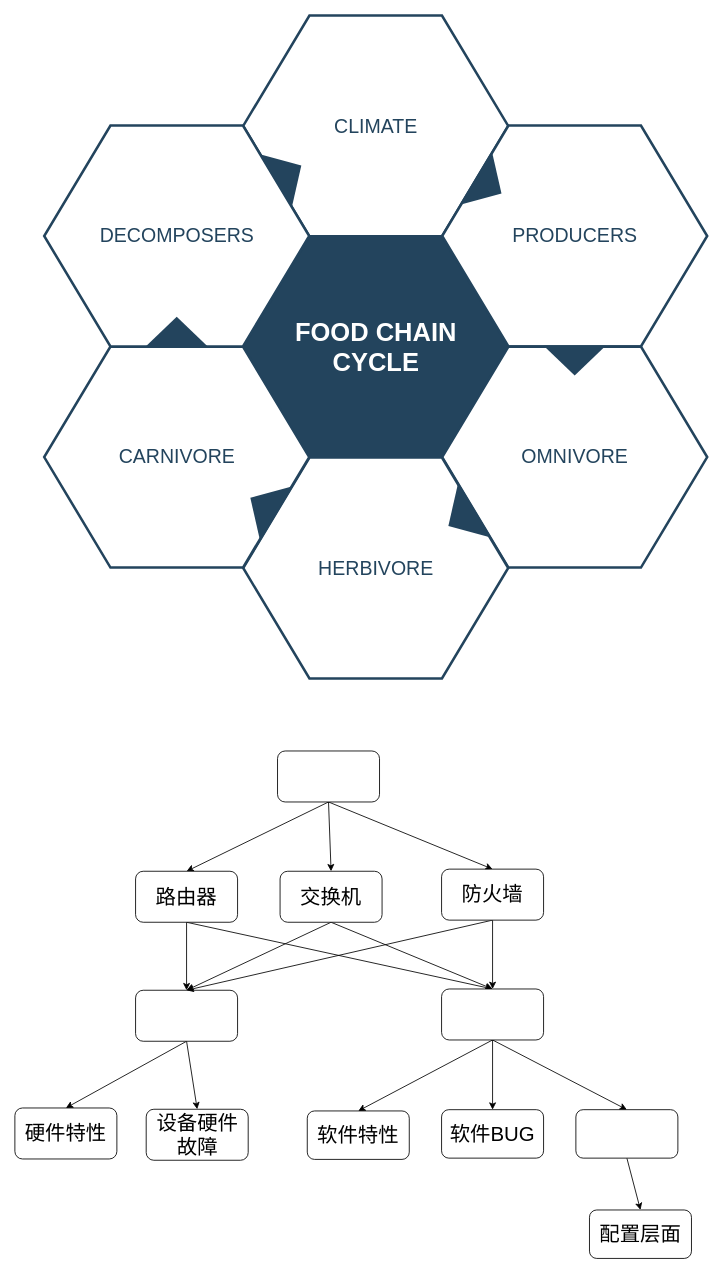
Some shapes in this 723 by 1274 pixel diagram are drawn without their labels. The shapes that lost their labels are listed below. From the top down, each one's centre as x and y in pixels, then its label:
At (x=328, y=776): "平台".
At (x=186, y=1015): "硬件故障".
At (x=492, y=1014): "软件故障".
At (x=626, y=1133): "技术".
